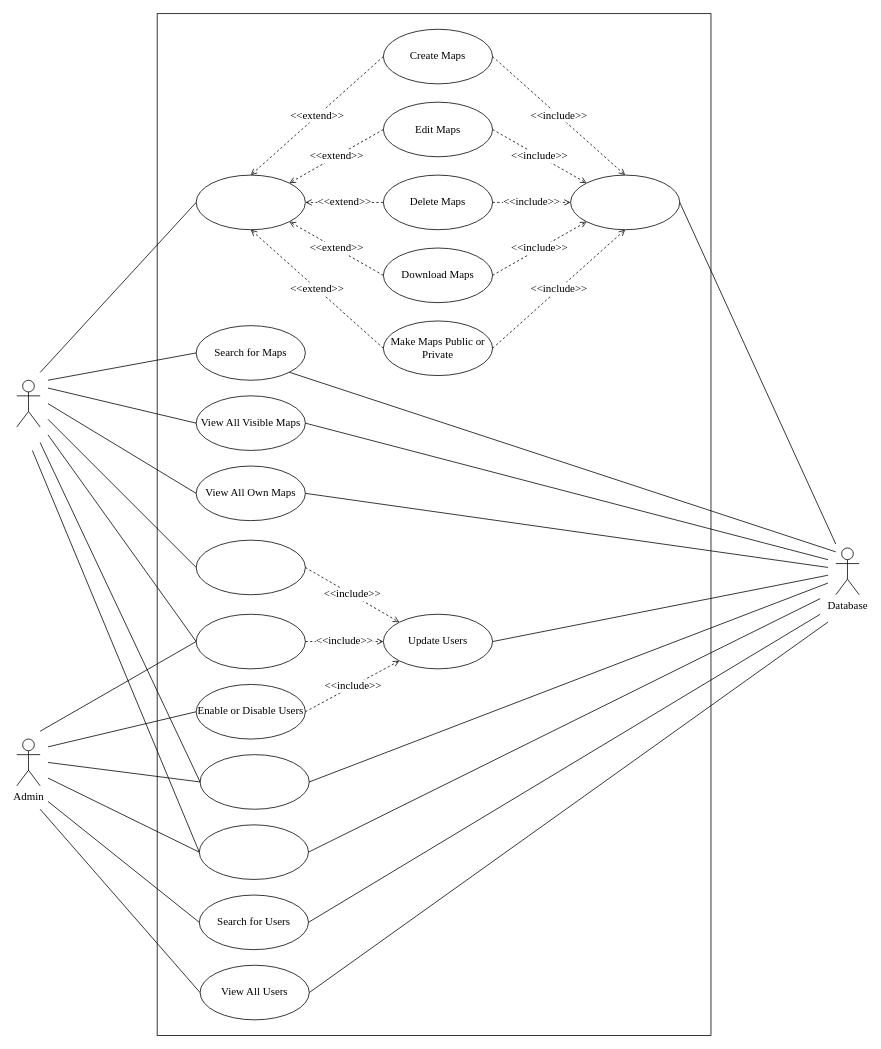
The diagram is 881 pixels wide and 1049 high, and some of its shapes have lost their labels. Here are the shapes that lost their labels. From the top down, the centre of each, then its label:
[250,202]: Interact with Maps
[625,202]: Update Maps
[28,403]: User
[250,567]: Sign Up
[250,641]: Edit Profile
[254,781]: Log In
[253,851]: Log Out
